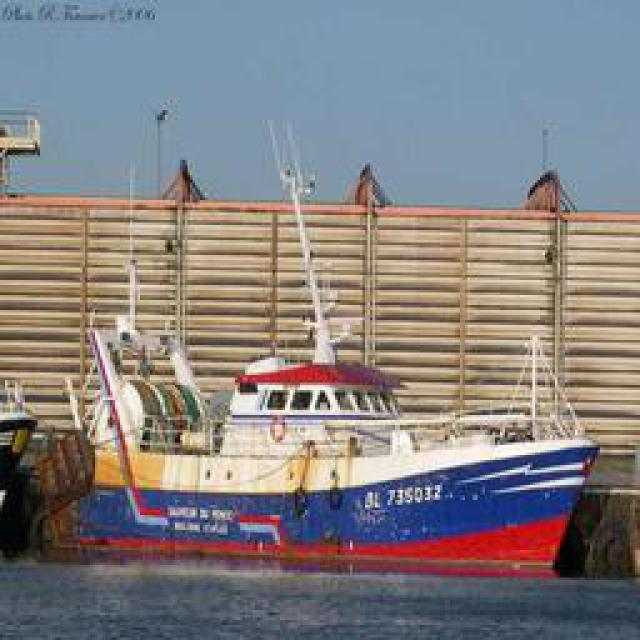Ship: (22, 222, 615, 562)
